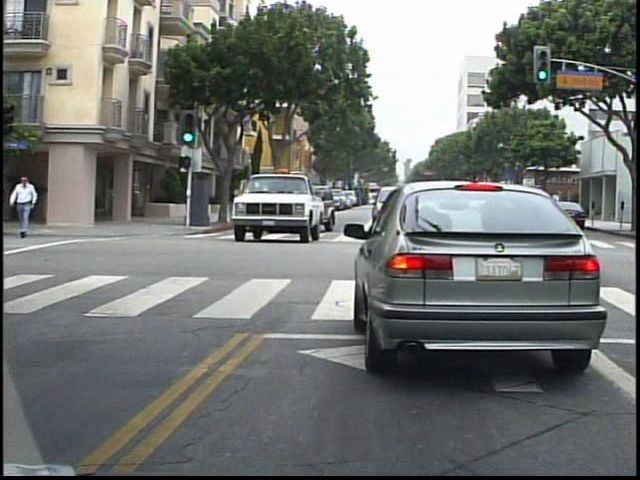person: (14, 173, 46, 243)
